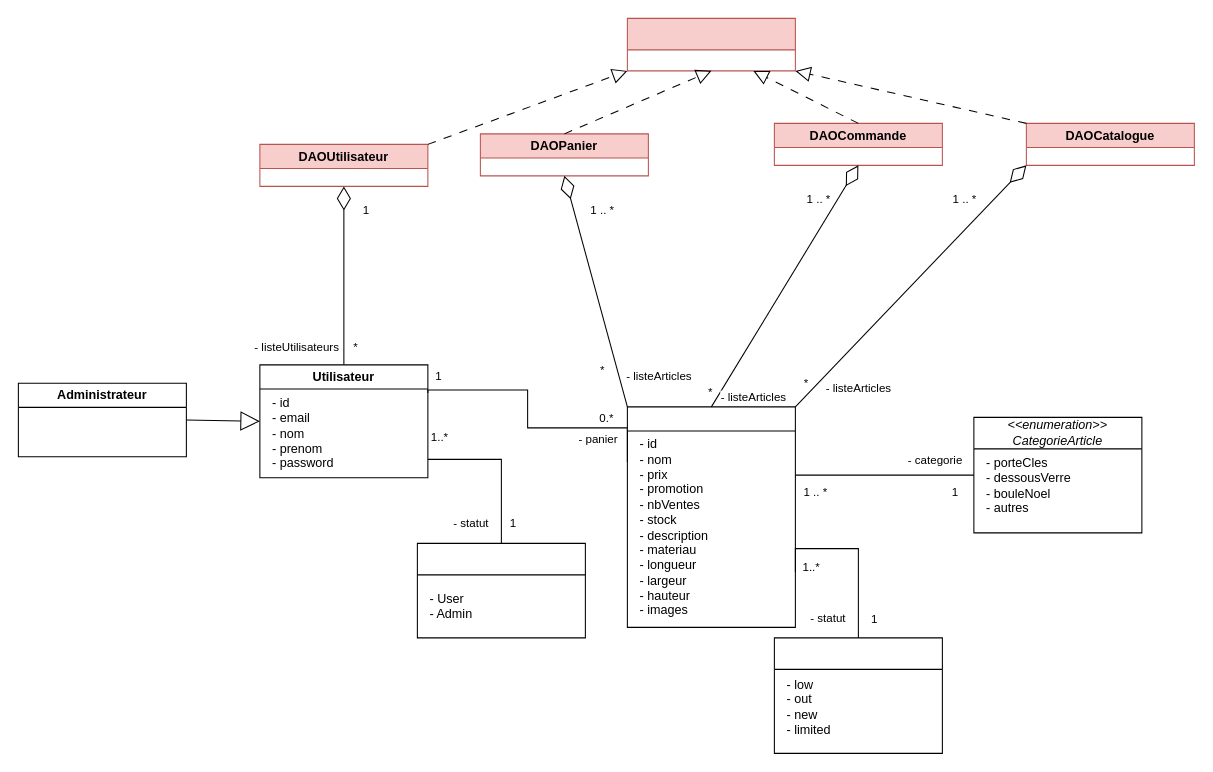
The diagram is 1213 pixels wide and 772 high, and some of its shapes have lost their labels. The box of each missing label's shape, as (x1, y1, x2, y2) in pixels:
<<enumeration>> Roles: (416, 542, 585, 638)
<<enumeration>> Statuts: (773, 637, 942, 753)
<<interface>> DAO: (626, 17, 795, 71)
Article: (626, 406, 795, 627)
